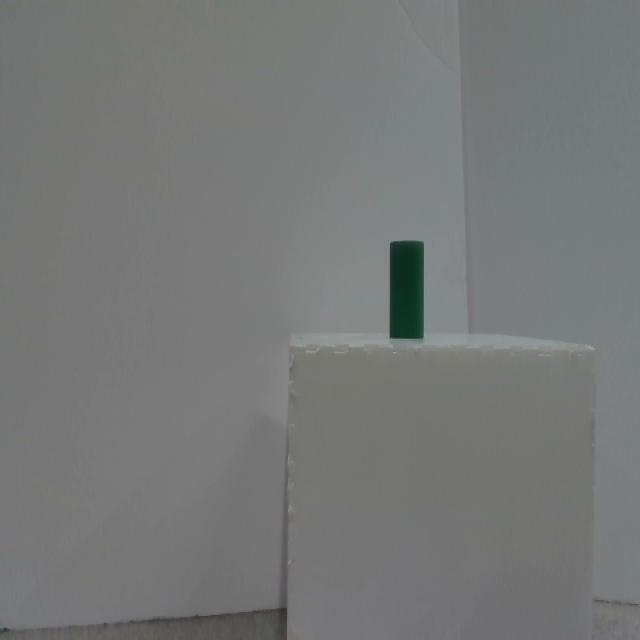green_cylinder: (390, 240, 424, 340)
